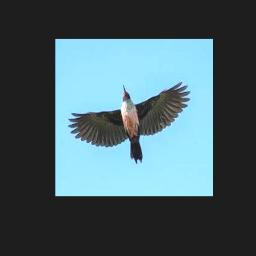Woodpecker: (68, 82, 190, 164)
